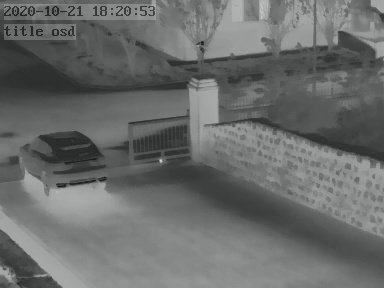vehicle: (17, 133, 109, 192)
